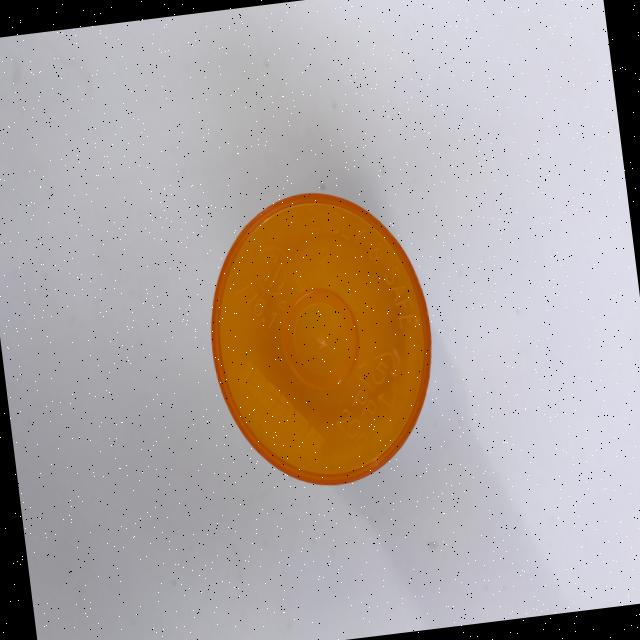plastic: (193, 178, 448, 498)
